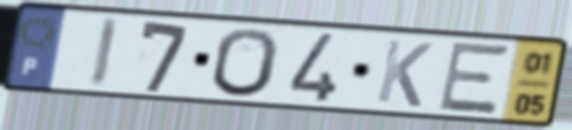4: (284, 31, 342, 105)
7: (139, 17, 190, 95)
E: (434, 39, 515, 117)
I: (86, 14, 124, 91)
K: (372, 36, 436, 110)
O: (209, 26, 282, 100)
